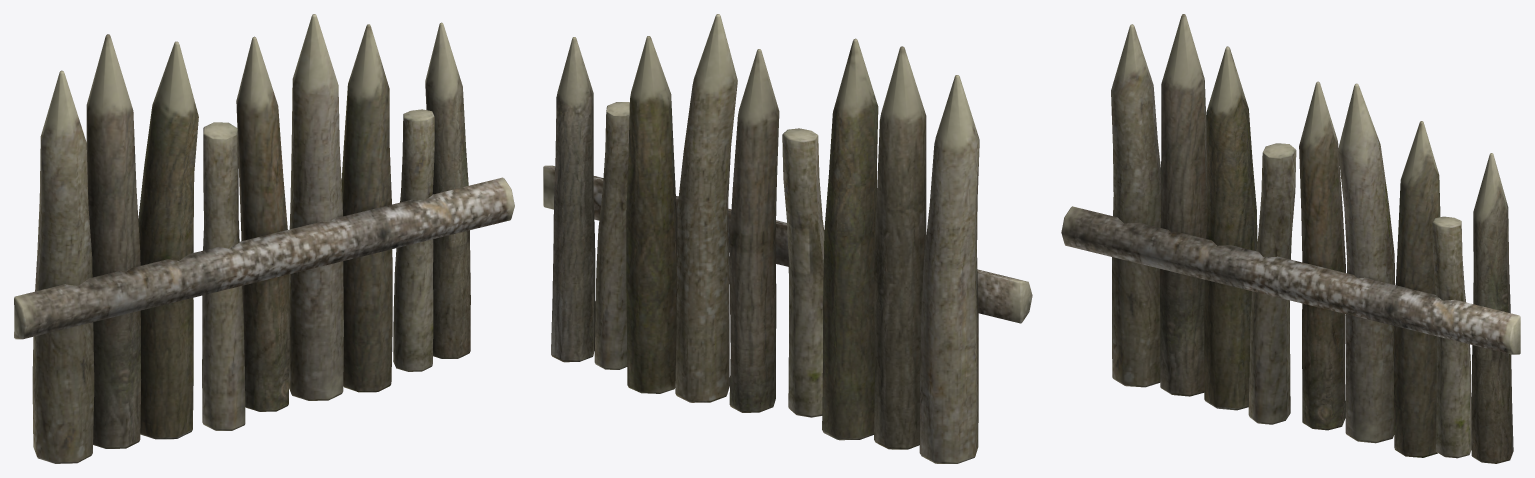
File: wooden_wall_2.glb
The picture shows the model from 3 angles, left to right: view 1: azimuth 30°, elevation 25°; view 2: azimuth 150°, elevation 25°; view 3: azimuth 330°, elevation 25°; orthographic projection. The views are drawn at different scales.
Parts seen in each view (by area): view 1: wooden_wall_2; view 2: wooden_wall_2; view 3: wooden_wall_2.
Part boxes in pixels (left/top/right/bottom): wooden_wall_2: left=14, top=14, right=514, bottom=463; wooden_wall_2: left=543, top=14, right=1032, bottom=463; wooden_wall_2: left=1061, top=14, right=1520, bottom=463.
Bounding box in the file's own units: 3.14 × 2.51 × 0.4423.
1 material, 1 textured.
